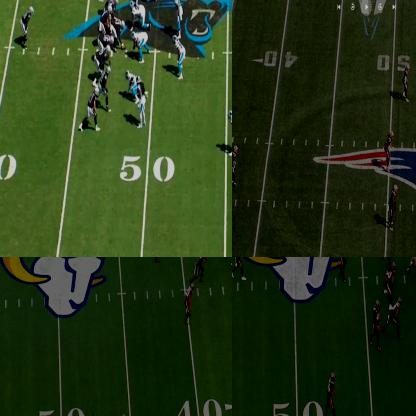CENTER: (112, 15, 126, 49), (410, 257, 415, 280)
DB: (136, 75, 146, 126), (327, 371, 336, 414), (234, 257, 247, 283), (186, 284, 194, 322), (232, 145, 238, 186), (404, 61, 410, 101), (228, 110, 231, 156)
LB: (386, 182, 398, 228), (173, 36, 185, 79), (371, 298, 381, 344), (384, 133, 395, 174), (171, 0, 184, 32), (340, 257, 348, 286)
QB: (99, 4, 114, 32)
SKILL: (86, 89, 100, 132), (102, 66, 113, 112), (20, 5, 32, 44)
